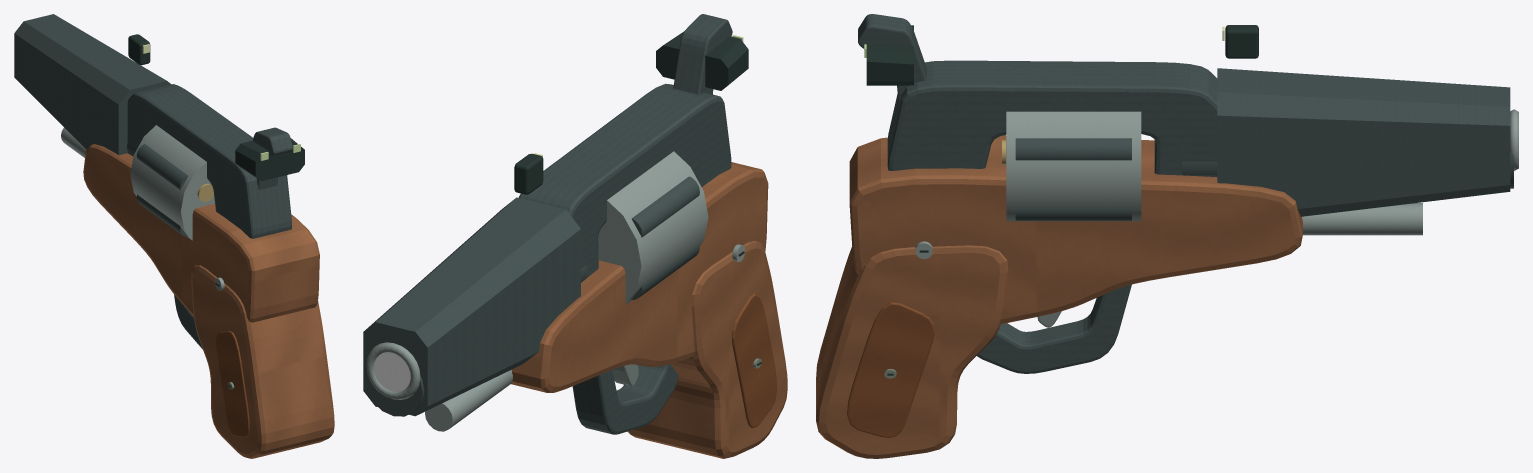
The picture shows the model from 3 angles, left to right: view 1: azimuth 30°, elevation 25°; view 2: azimuth 150°, elevation 25°; view 3: azimuth 270°, elevation 25°; orthographic projection. The views are drawn at different scales.
Visible parts, largest first — view 1: r8, bolt; view 2: r8, bolt; view 3: r8, bolt.
Part boxes in pixels (x1,y1,x2,y2): r8: (14, 14, 334, 458); bolt: (128, 34, 304, 240); r8: (363, 14, 787, 458); bolt: (514, 25, 748, 304); r8: (816, 14, 1518, 458); bolt: (864, 25, 1258, 221).
Size of the model in its own units: 0.116 by 0.3693 by 0.5635.
13 materials, 11 textured.
